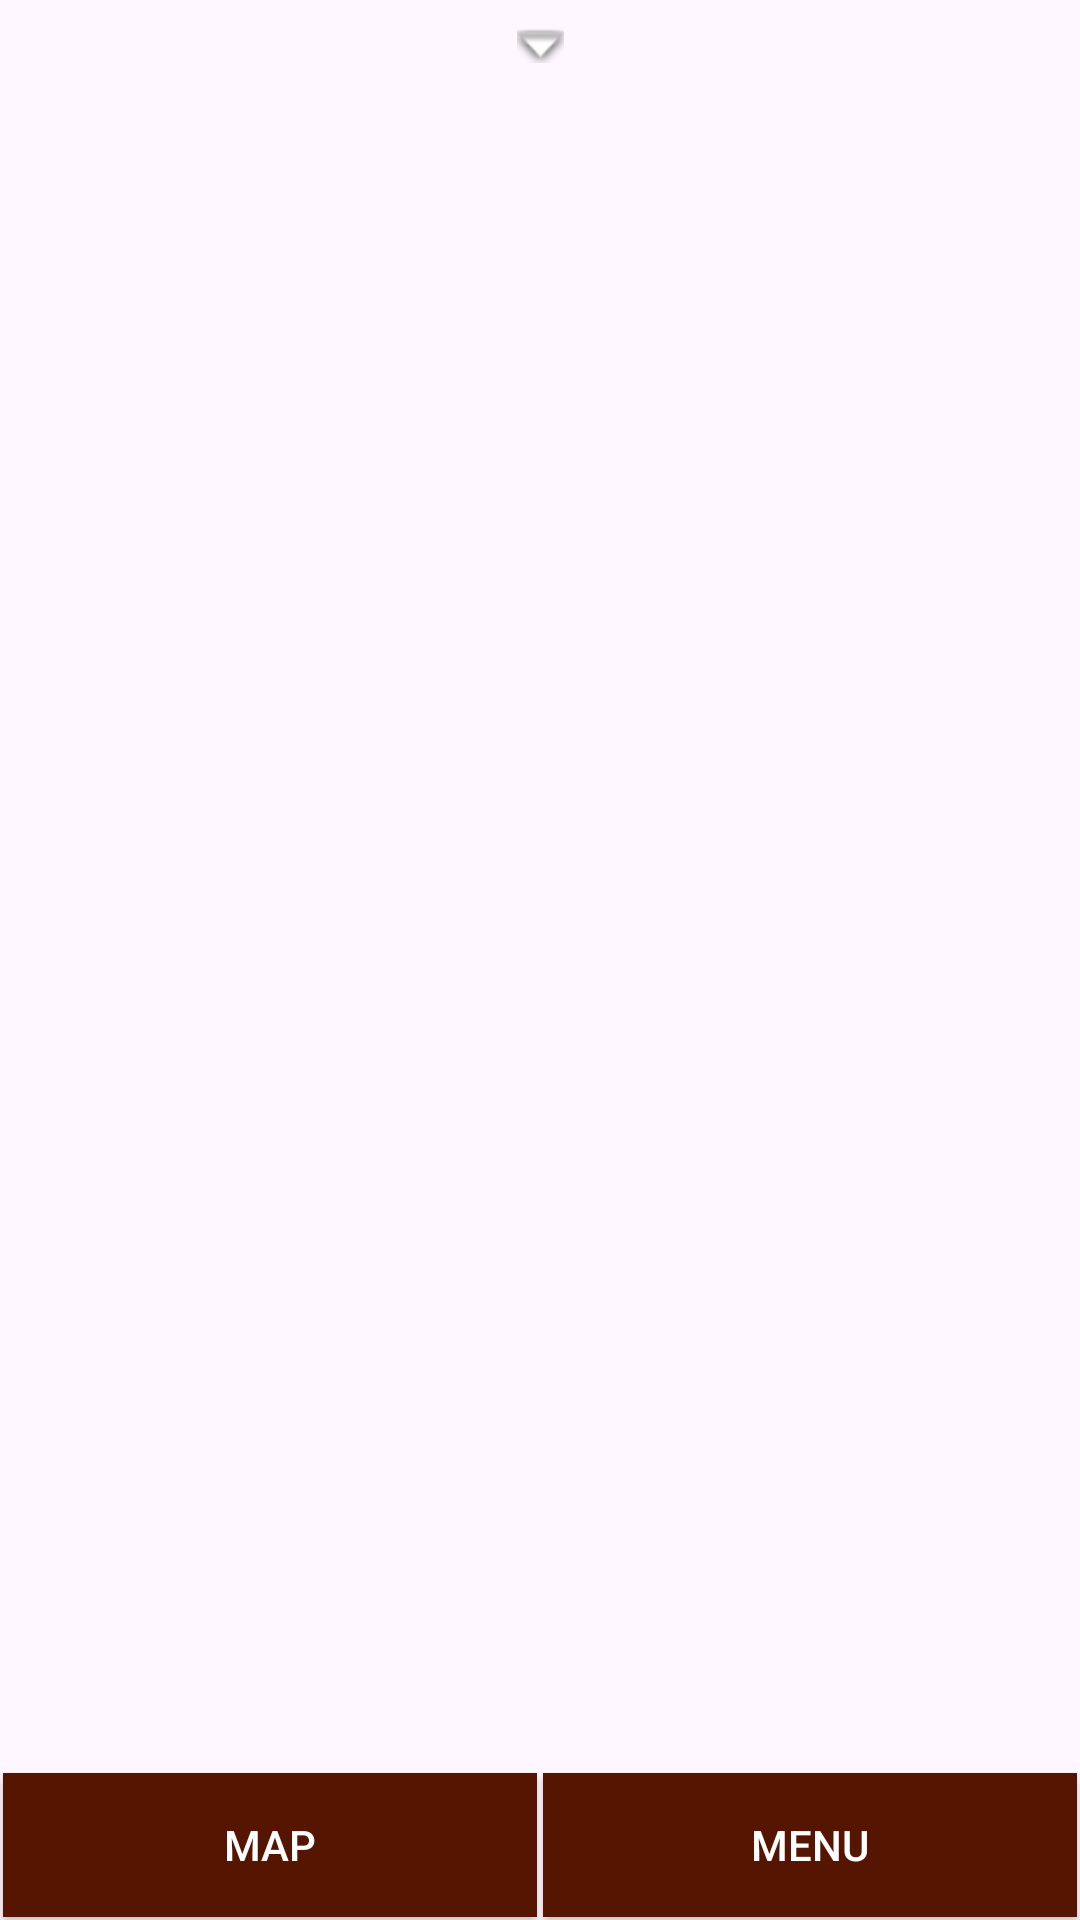

Point at icon controls on the screen. Image size 1080x1920, points as [x,y].
arrow down float: [540,46]
